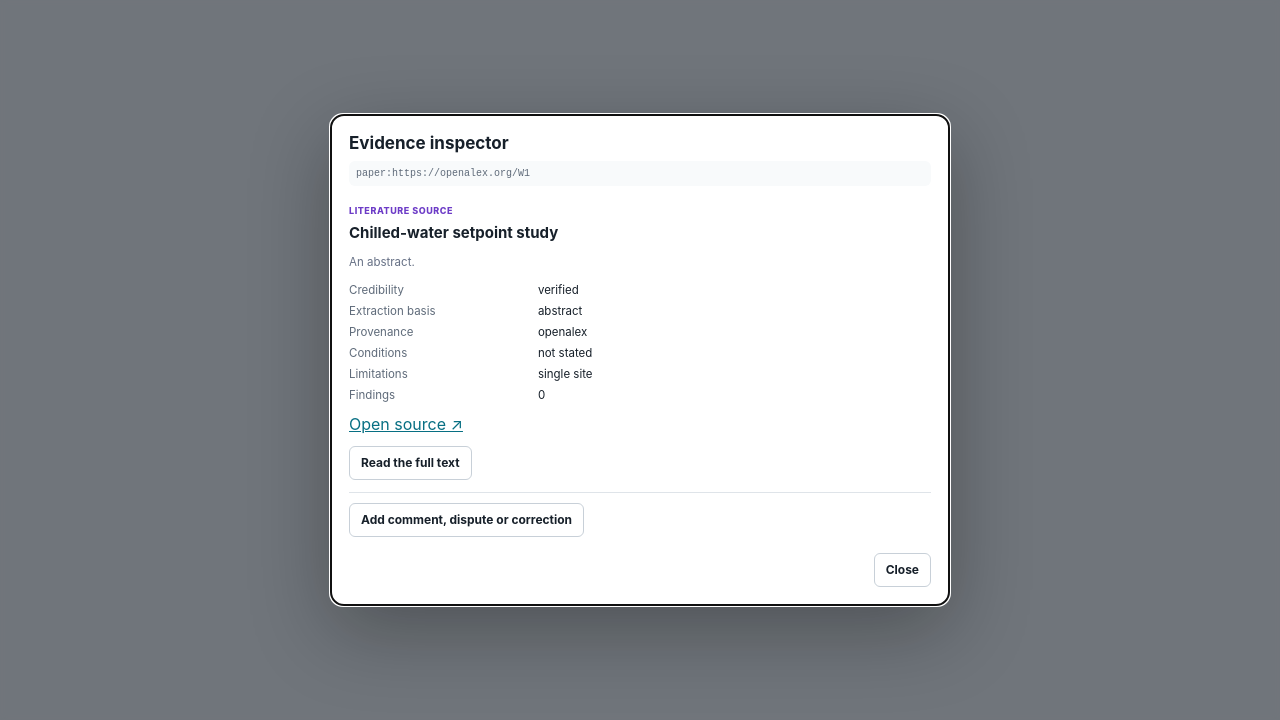
Test case: EvidenceInspector annotations › states that annotations never change the deterministic checks
The image size is (1280, 720).
Click the button "Add comment, dispute or correction" at {"x": 467, "y": 520}, box [349,503,584,537]
(page scrolled)
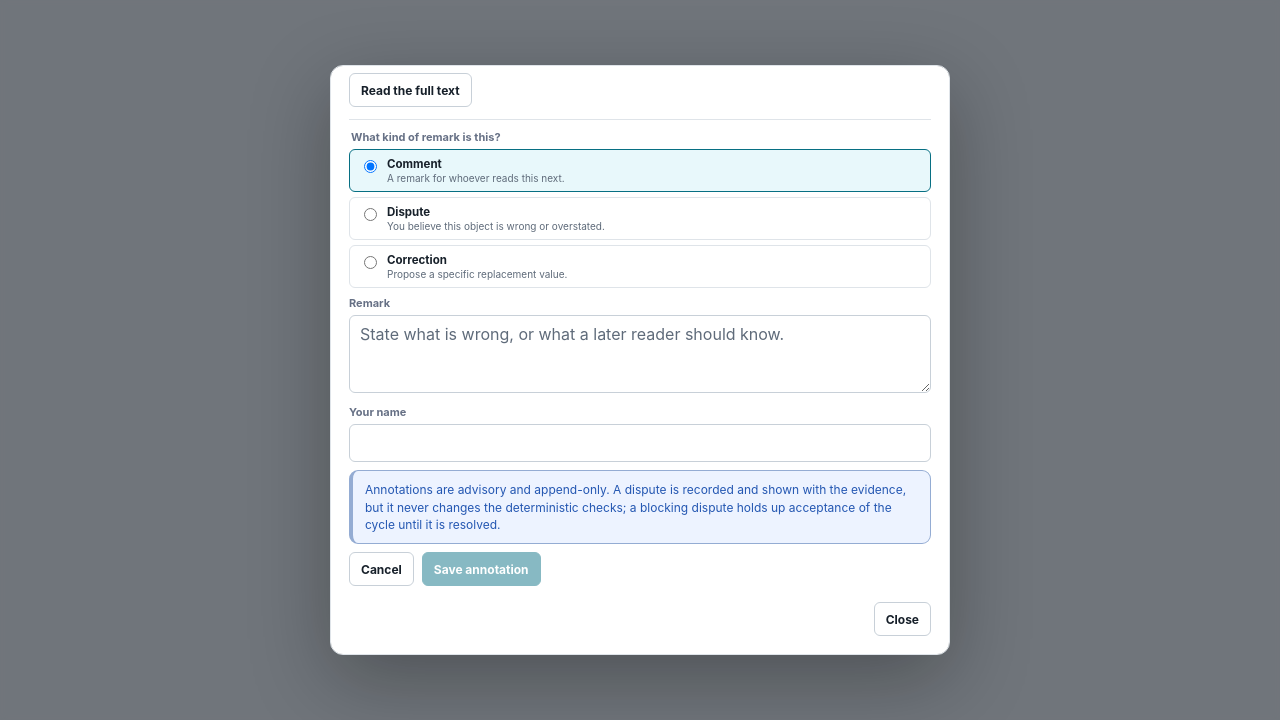
Result: the text "never changes the deterministic checks" is shown at [365,482,906,532]
